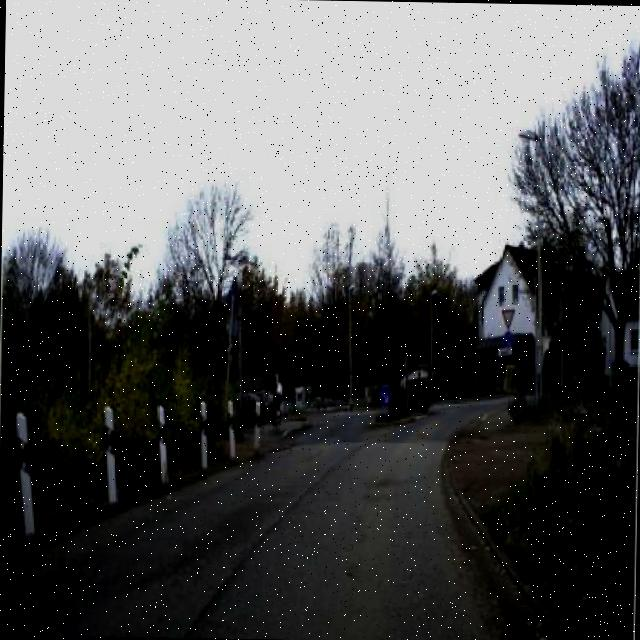Ustap pierwszenstwa: (499, 306, 515, 332)
